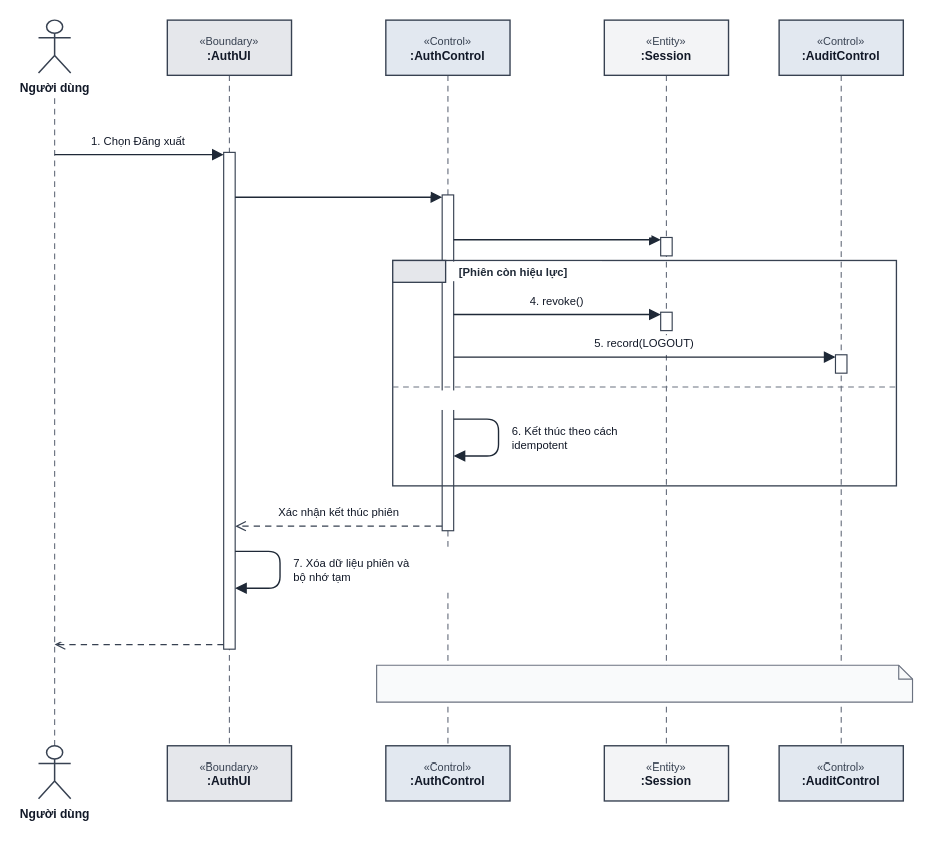
Some shapes in this 933 by 842 pixel diagram are drawn without their labels. Each missing label, with the centre of its shape:
"2. logout(currentSession)" belongs at pixel 338 184.
"3. Kiểm tra phiên hiện tại" belongs at pixel 556 227.
"[Phiên đã hết hạn hoặc không tồn tại]" belongs at pixel 532 399.
"alt" belongs at pixel 418 270.
"Hiển thị màn hình đăng nhập" belongs at pixel 138 624.
"Sau thu hồi, phiên cũ không còn được phép truy cập bất kỳ tài nguyên nào." belongs at pixel 644 683.
